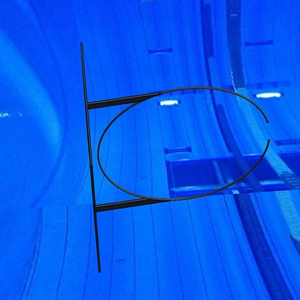circle: (77, 40, 271, 276)
